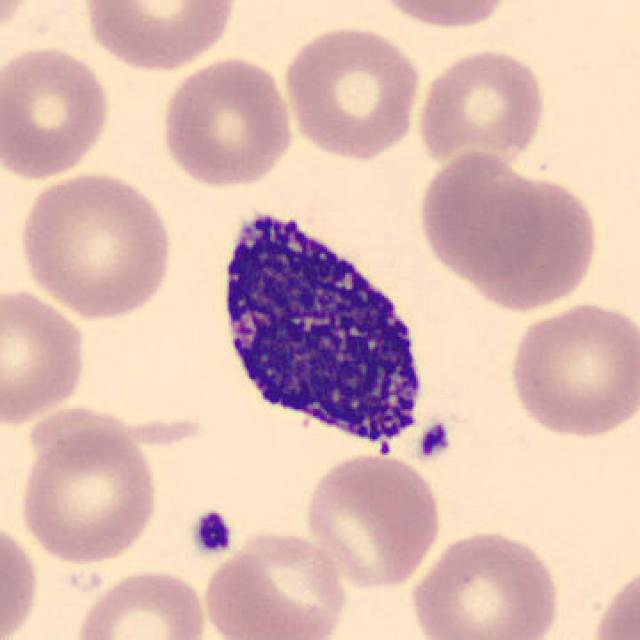Basophil: (208, 196, 439, 464)
Platelets: (186, 508, 236, 559), (416, 419, 453, 464)
RBC: (14, 167, 178, 321), (16, 420, 162, 566), (279, 21, 425, 162), (300, 450, 444, 592), (156, 53, 297, 190), (469, 171, 603, 314), (505, 298, 638, 442), (406, 525, 566, 640), (414, 148, 546, 282), (412, 44, 550, 169), (201, 527, 350, 640), (0, 40, 114, 182), (0, 284, 91, 428), (78, 0, 240, 72), (71, 566, 210, 640), (0, 516, 41, 640), (368, 0, 516, 32), (587, 557, 638, 640), (0, 0, 39, 49)
